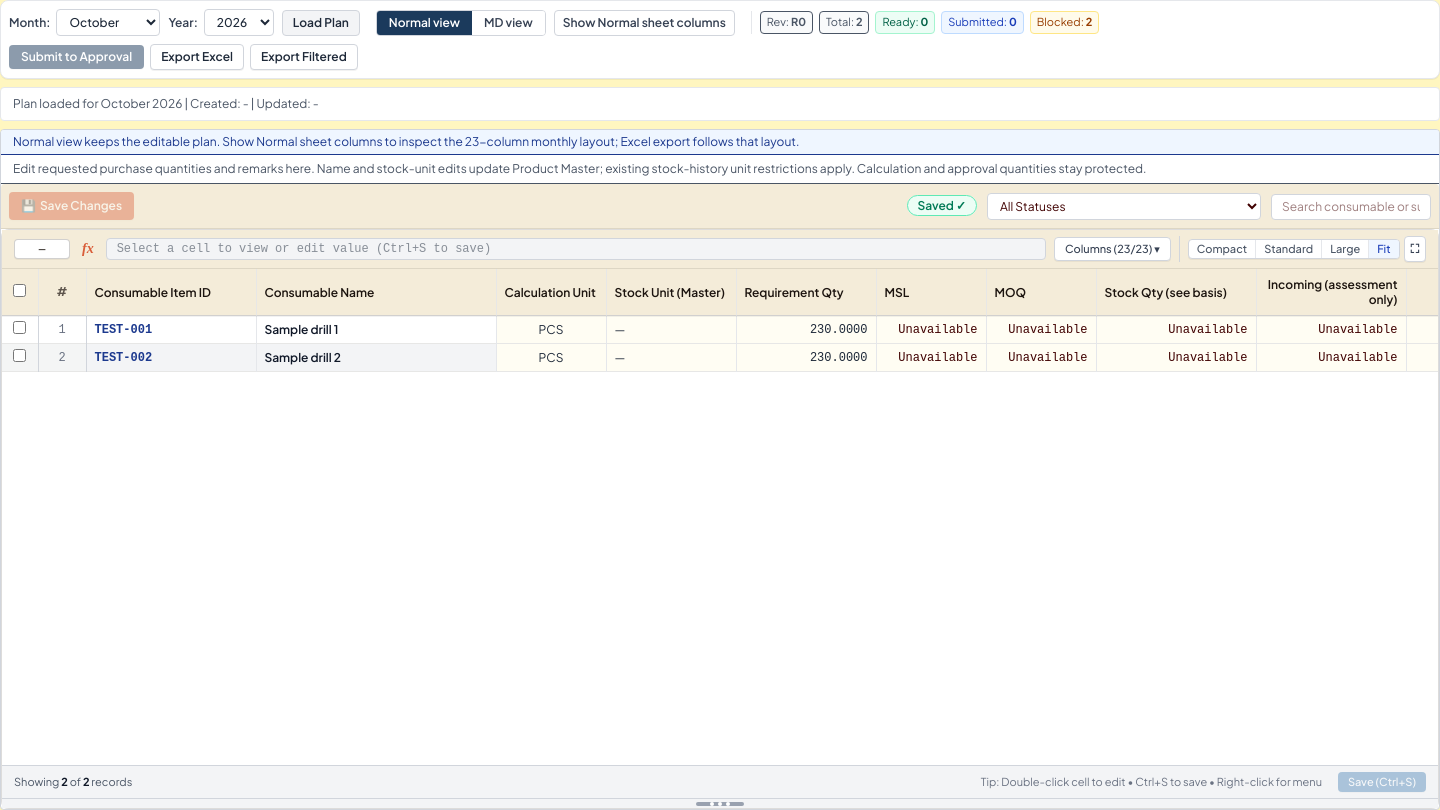
Scenario: authenticated SELECTED export downloads Excel with the exact row/filter scope
expect the cell "TEST-001" is shown: met, box [86,316,256,344]
Click the checkbox named "Select row 1". click: (20, 328)
box: [13,321,26,334]
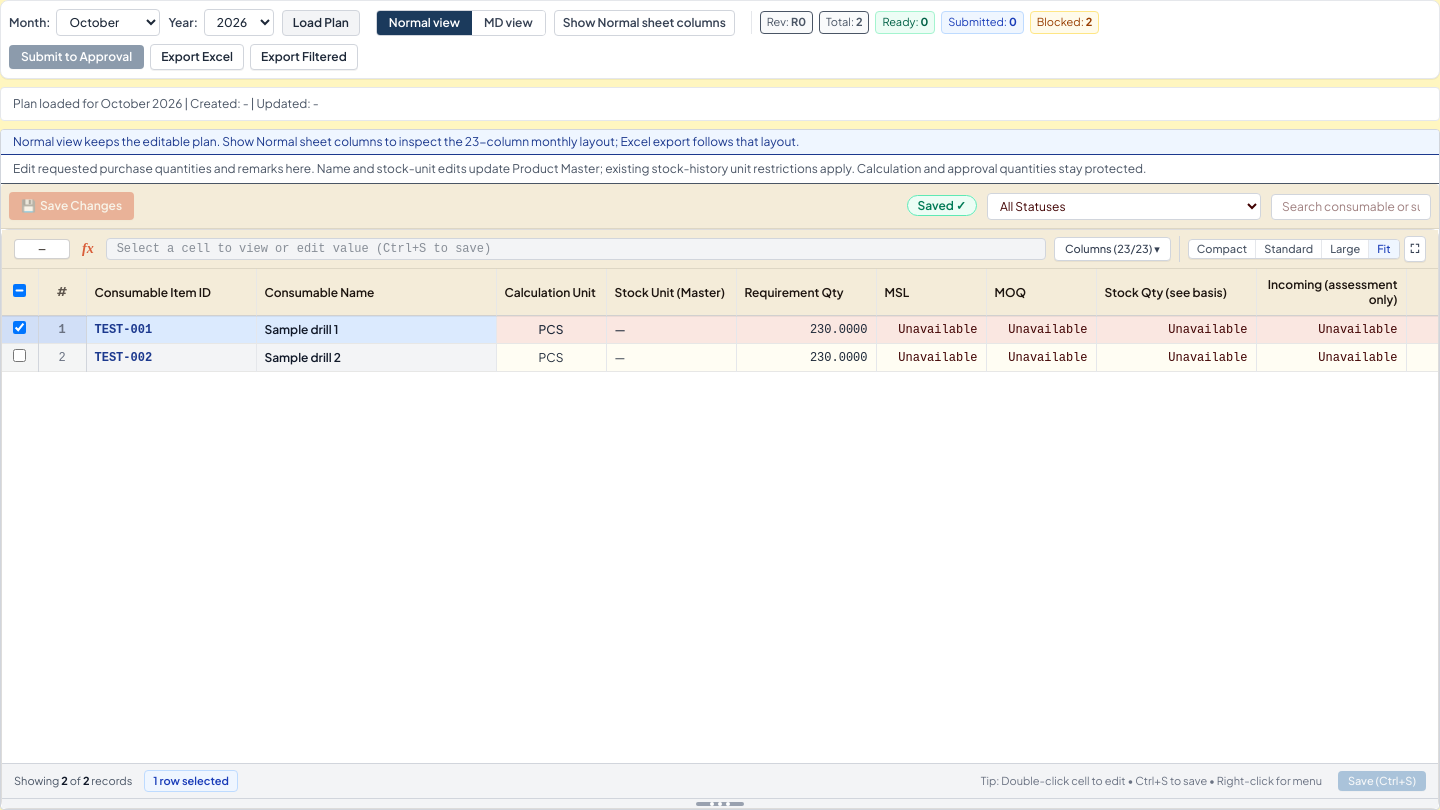
Click the checkbox named "Select row 2". click: (20, 356)
box: [13,349,26,362]
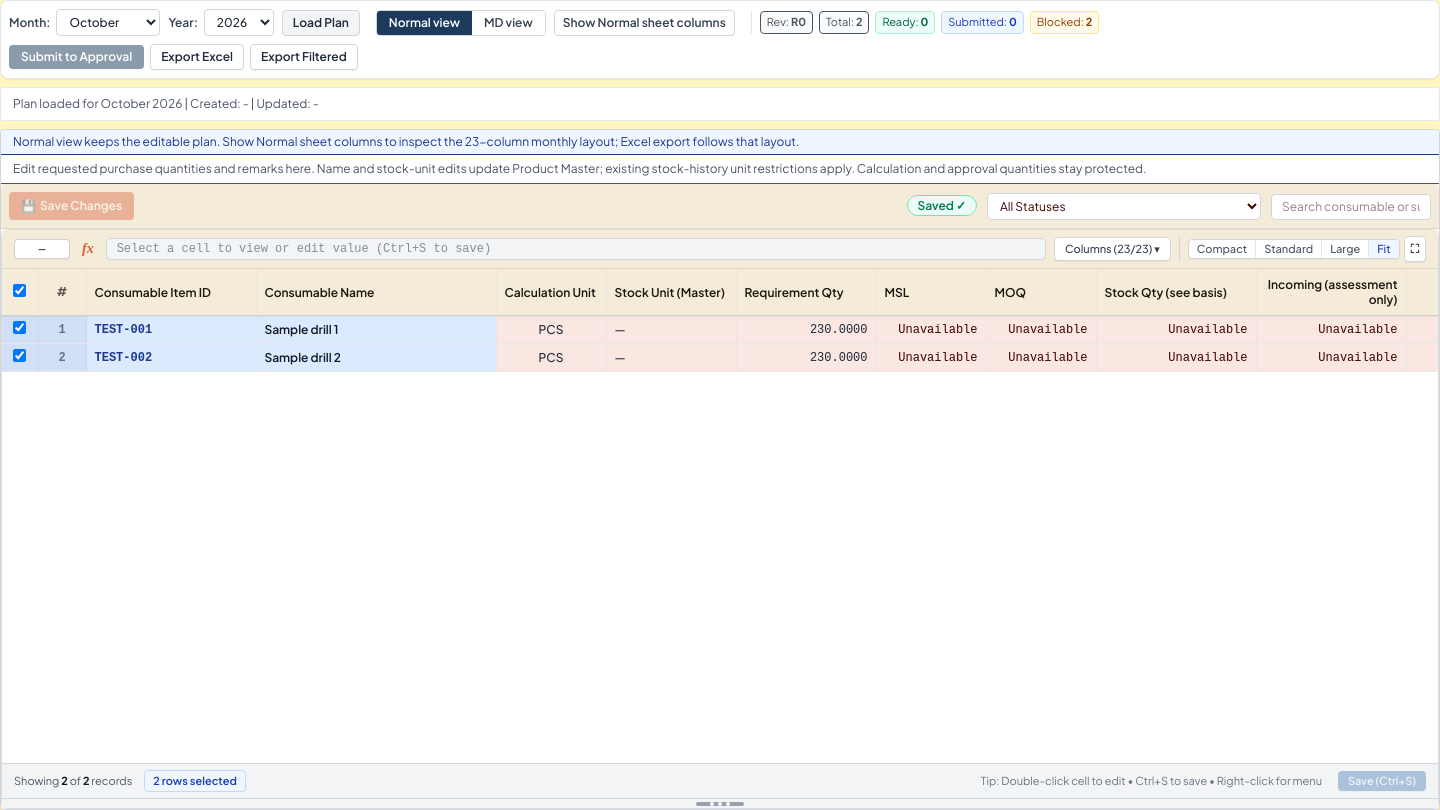
Click the button "Export Excel". click: (197, 57)
box: [150,44,244,70]
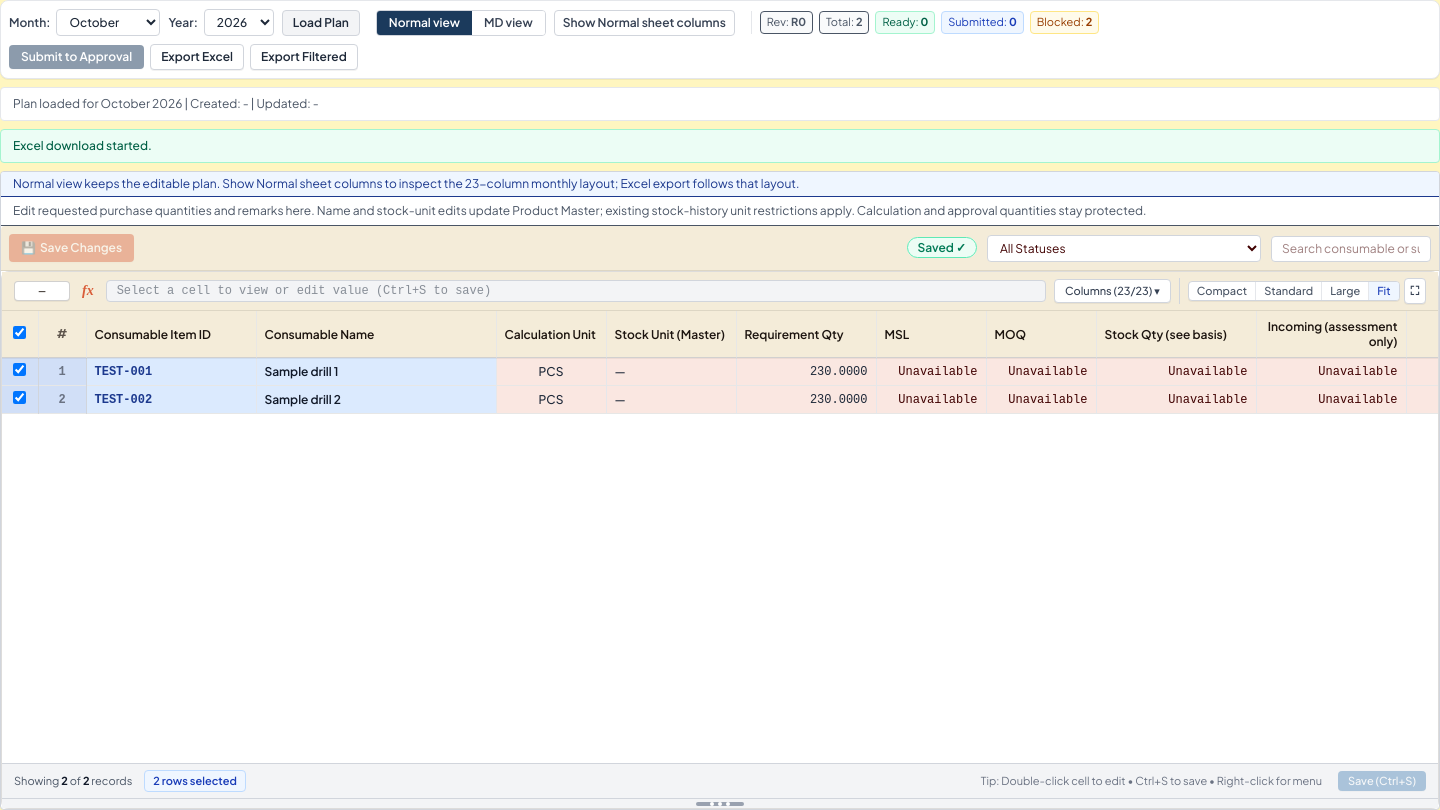
expect the text "Excel download started." is shown: met, box [0,129,1439,163]
